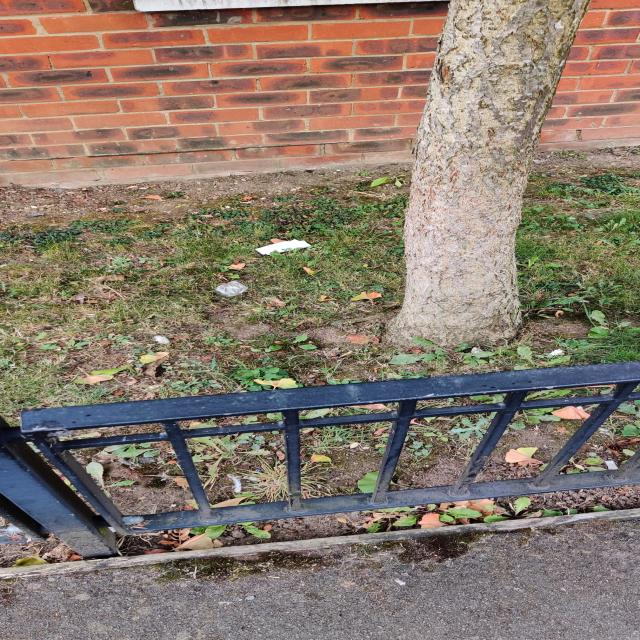litter: (247, 232, 330, 260), (208, 279, 254, 299)
